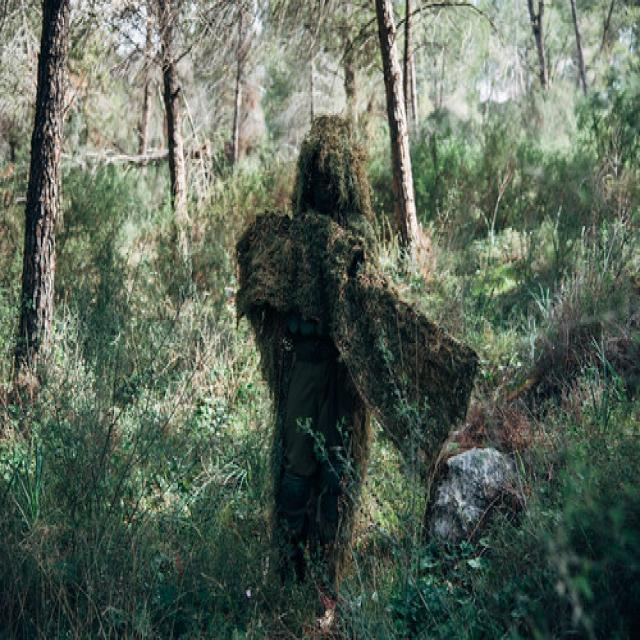Camouflage: (235, 116, 480, 615)
